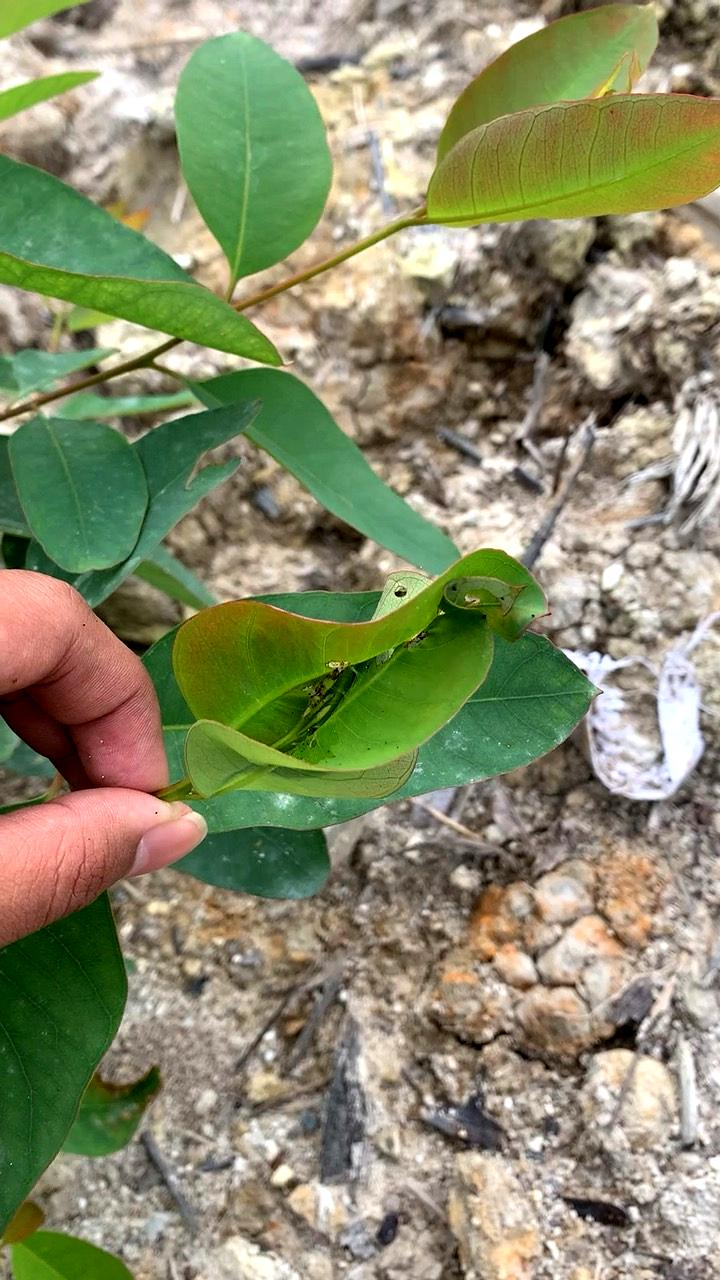Leaf Roller - Leaf: (123, 523, 585, 822)
